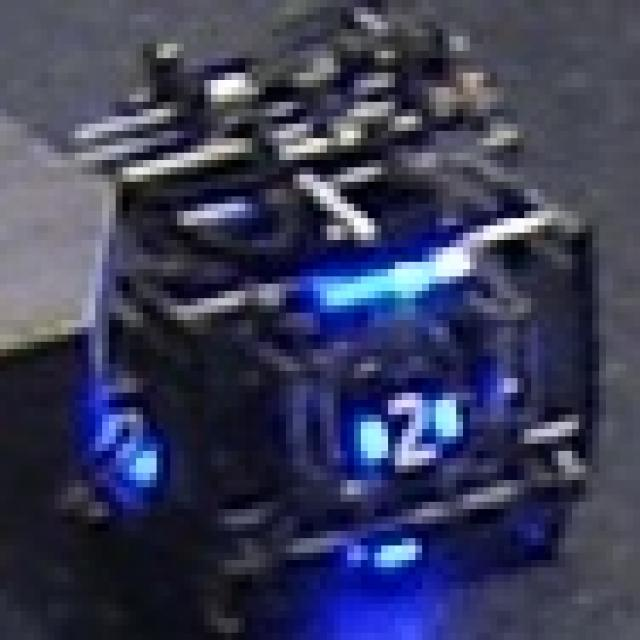B2: (354, 385, 463, 473), (88, 400, 156, 487)
